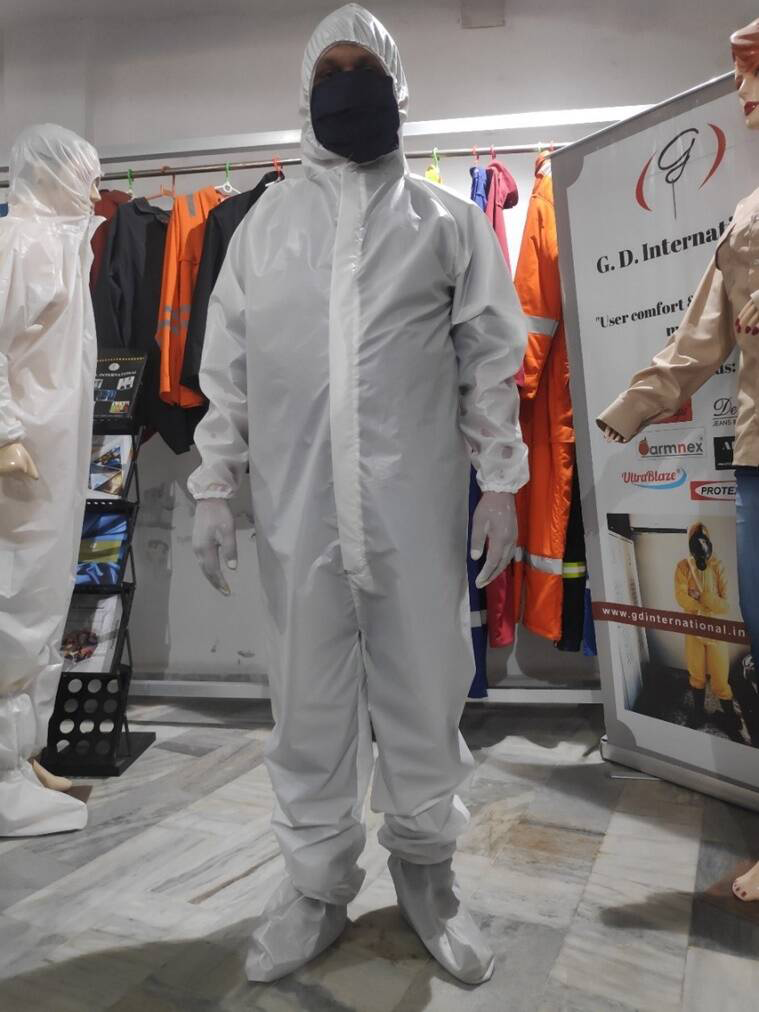Coverall: (191, 5, 530, 887)
Gloves: (467, 493, 531, 589), (191, 493, 238, 599)
